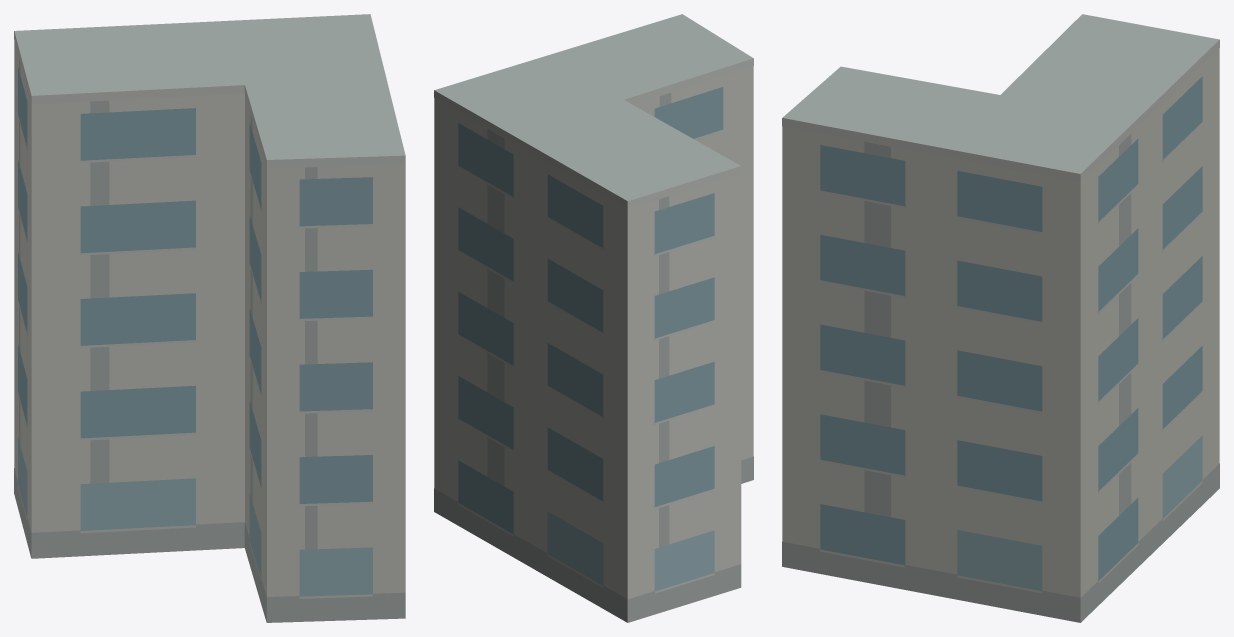
Rendered from survey-upis-32796853.glb.
3 renders of one model, left to right at view 1: azimuth 30°, elevation 25°; view 2: azimuth 150°, elevation 25°; view 3: azimuth 270°, elevation 25°, orthographic. The views are drawn at different scales.
Parts seen in each view (by area): view 1: survey-upis-32796853.tmp; view 2: survey-upis-32796853.tmp; view 3: survey-upis-32796853.tmp.
Boxes of the visible parts, box(x1,y1,x2,y2) form: survey-upis-32796853.tmp: box(14, 14, 405, 622); survey-upis-32796853.tmp: box(434, 14, 753, 622); survey-upis-32796853.tmp: box(782, 14, 1219, 622).
Bounding box in the file's own units: 10.02 × 13.1 × 11.58.
